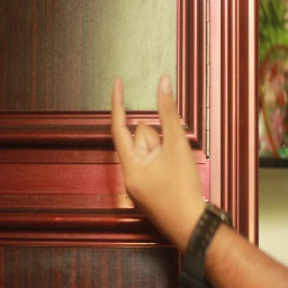U: (104, 68, 205, 200)
